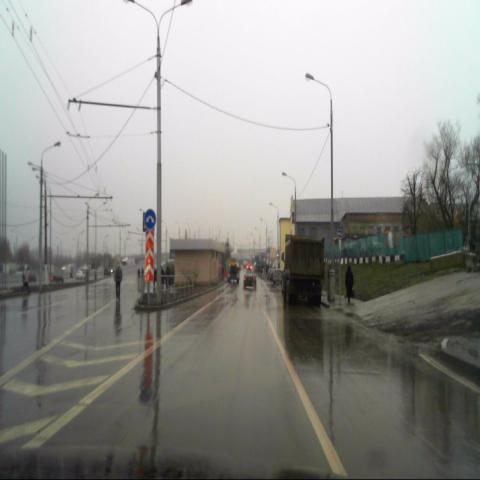4_2_3: (144, 209, 156, 229)
